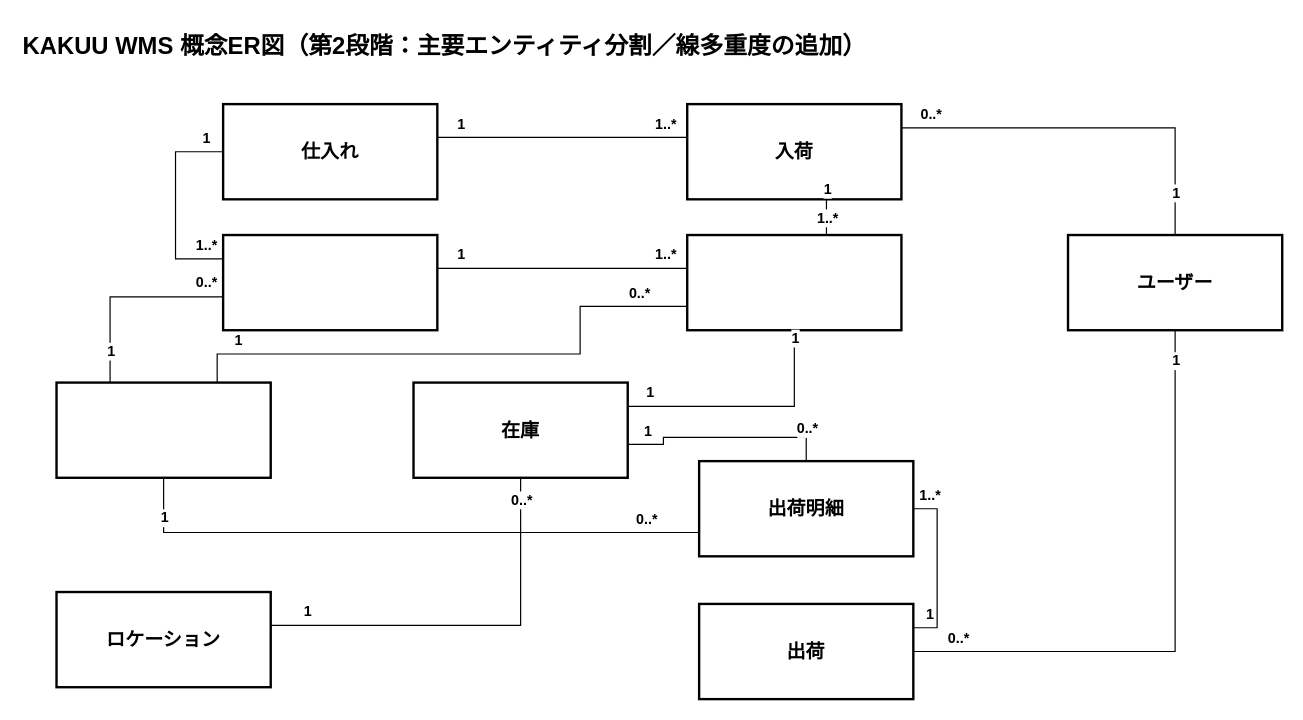
The diagram is 1303 pixels wide and 720 high, and some of its shapes have lost their labels. Here are the shapes that lost their labels. From the top down, the centre of each, then its label:
point (329, 282): 仕入れ明細
point (793, 282): 入荷明細
point (163, 429): 商品
